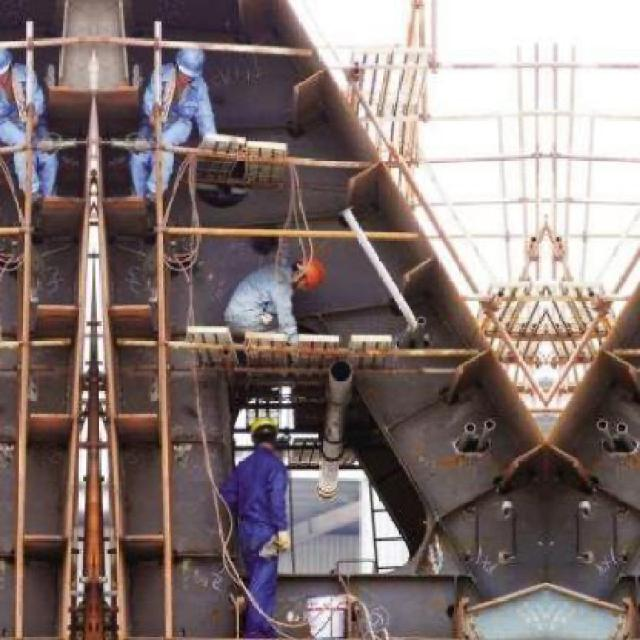con casco: (168, 408, 303, 518), (255, 250, 343, 326), (128, 35, 212, 110)
